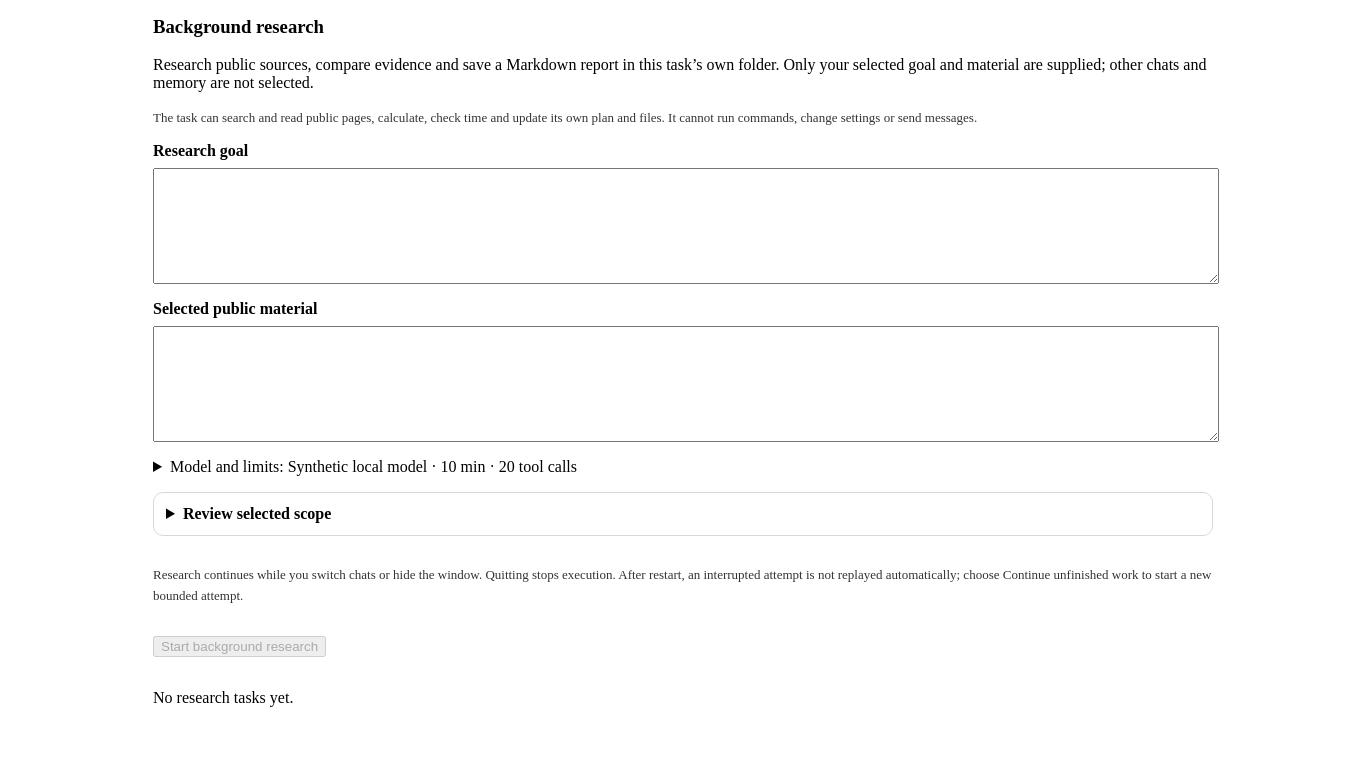
Scenario: background research UI › freezes uncertain submissions and recovers with the identical operation ID and input
Type "Compare public sources" into the text box labelled "Research goal". click: [686, 226]
box: [153,168,1219,284]
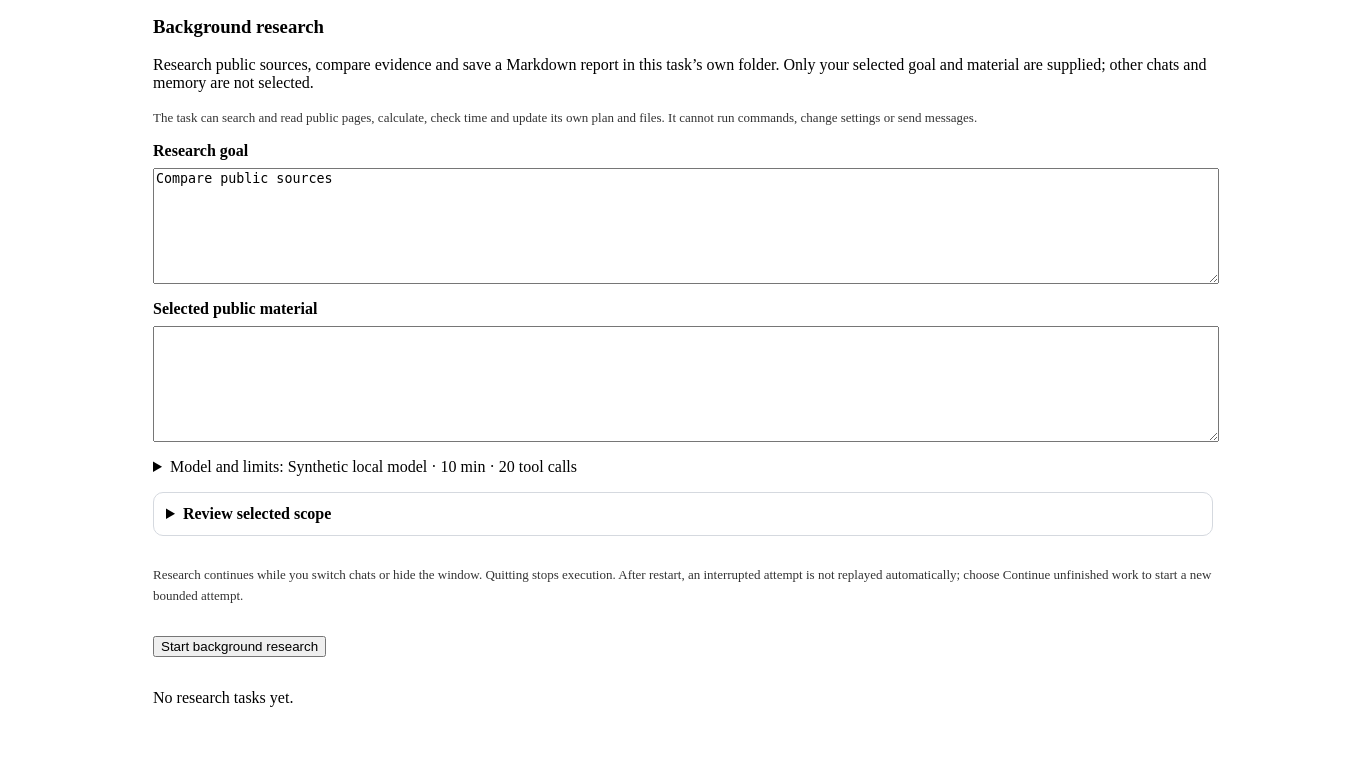
Type "SELECTED_PUBLIC_MATERIAL" into the text box labelled "Selected public material". click: [686, 384]
box: [153,326,1219,442]
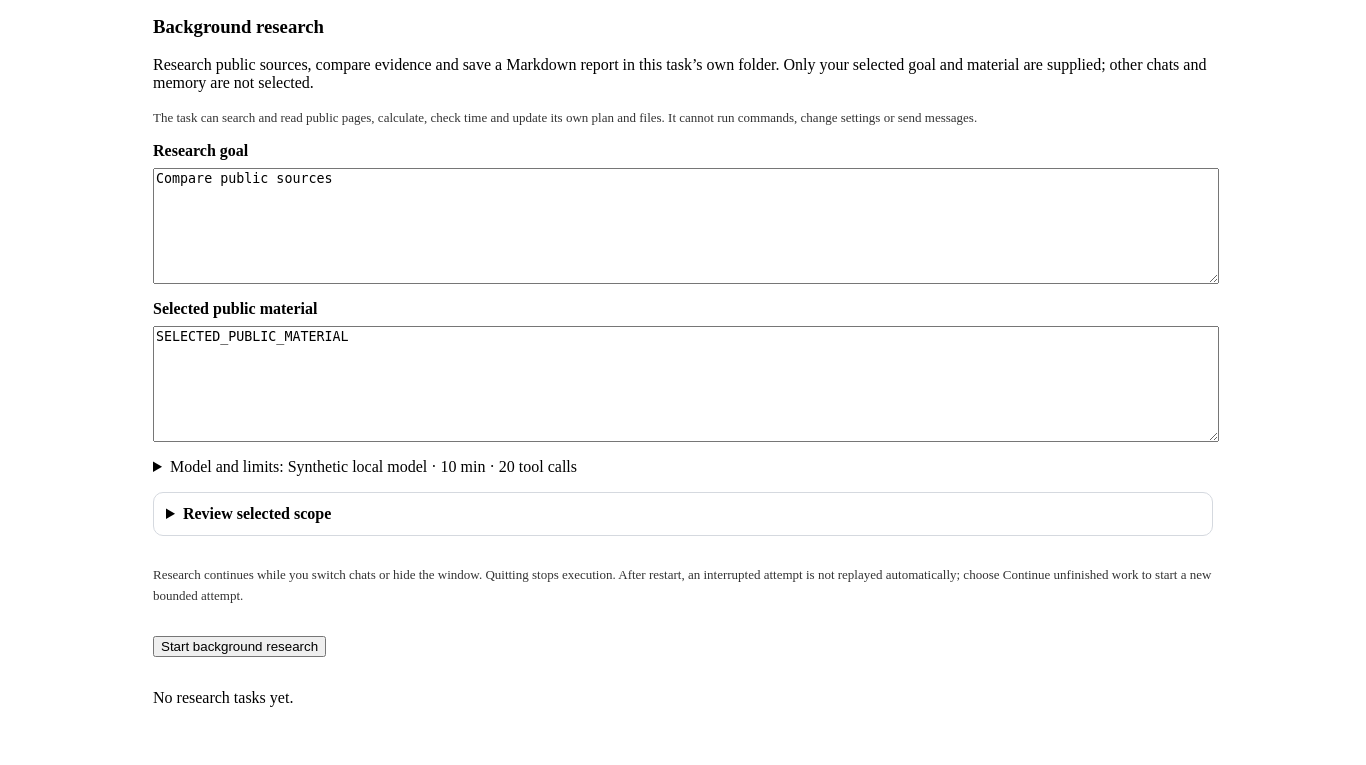
Click the button "Start background research". click: [240, 646]
box: [153,636,326,657]
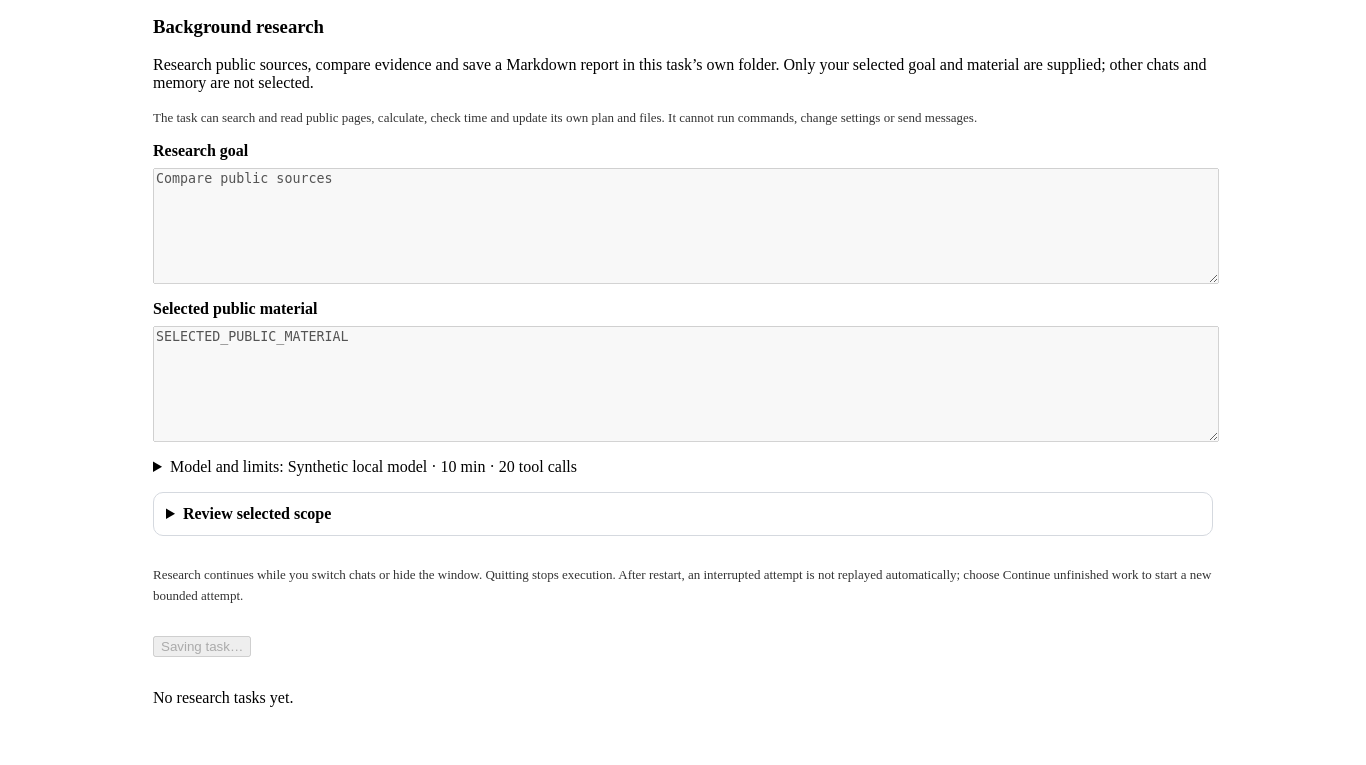
Click the button named "Start background research". click: [202, 646]
box: [153,636,251,657]
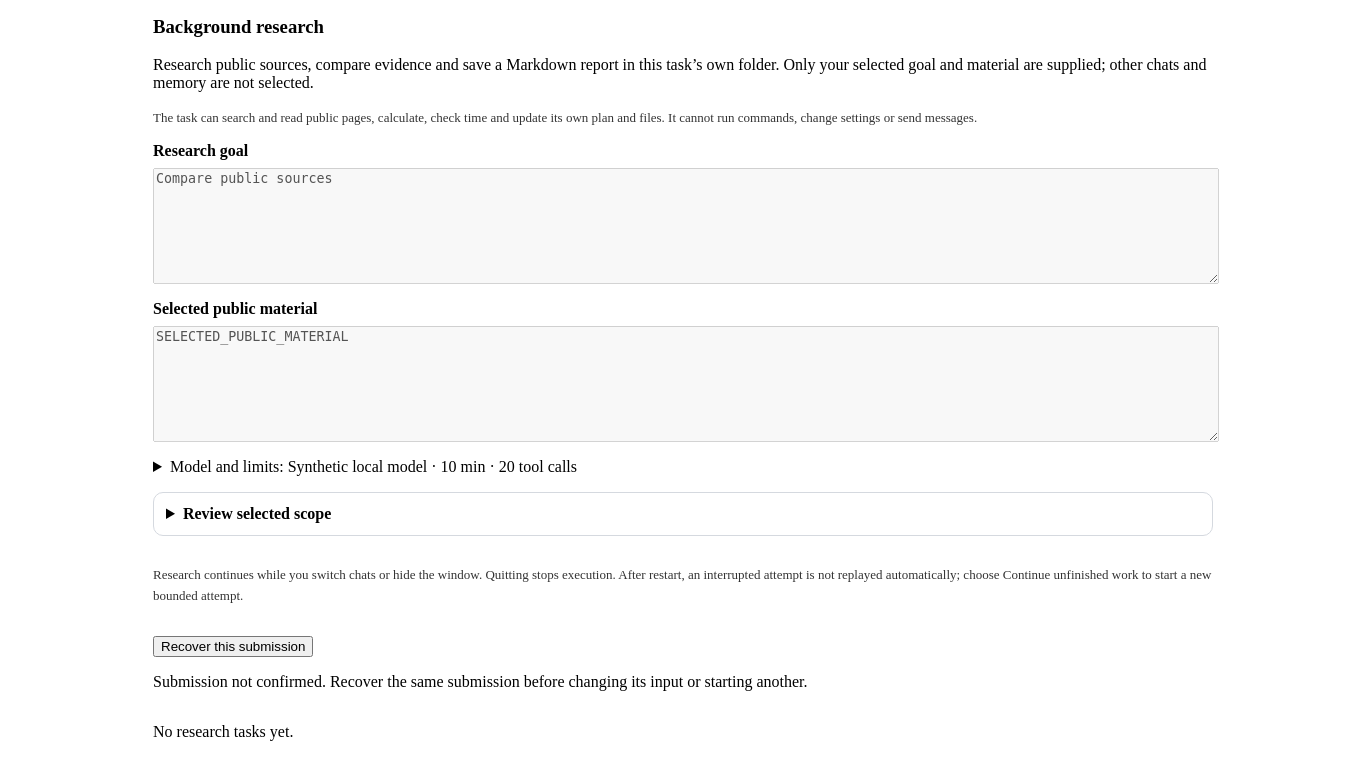
Check: the text box labelled "Research goal" is disabled, box [153,168,1219,284]
Check: the message shows "Submission not confirmed", box [153,673,808,690]
Click the button "Recover this submission". click: [233, 646]
box: [153,636,314,657]
(page scrolled)
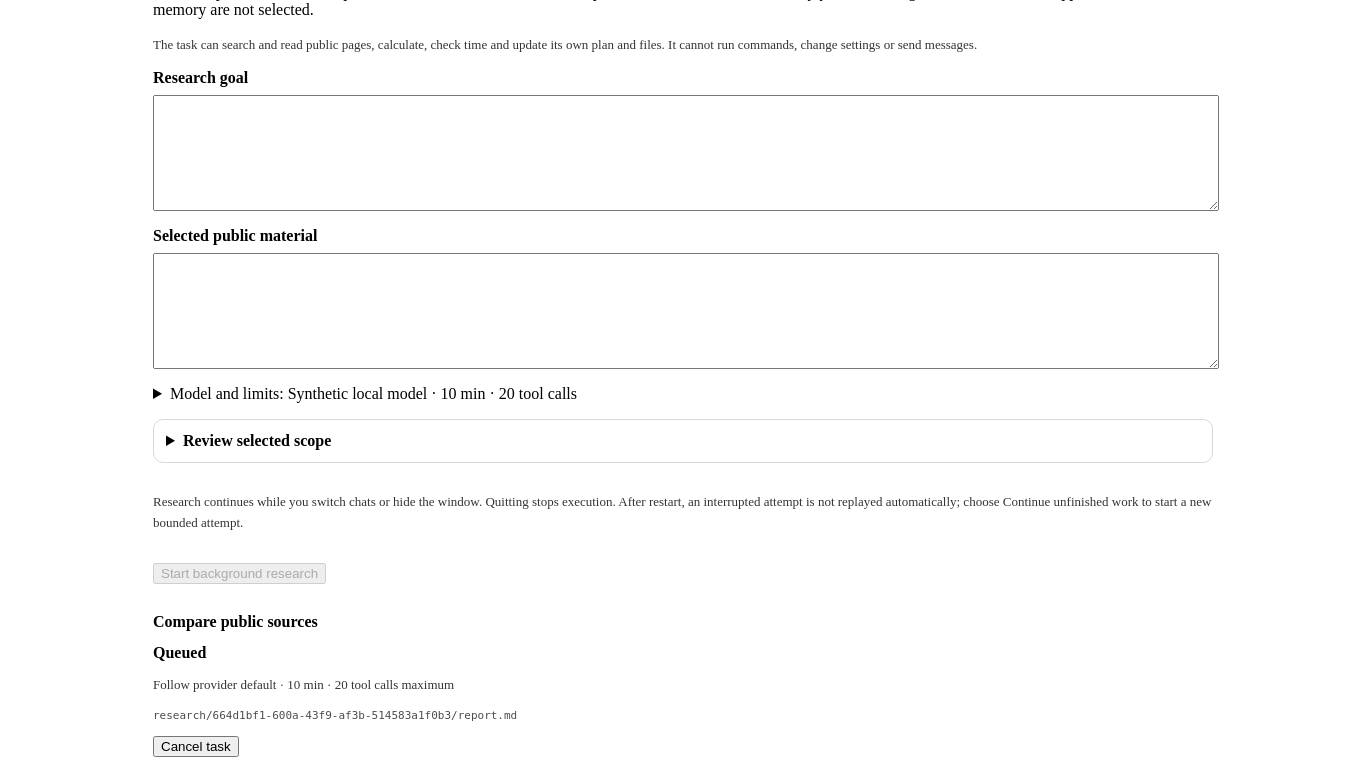
Check: the element "Compare public sources" is shown, box [153,613,517,757]
